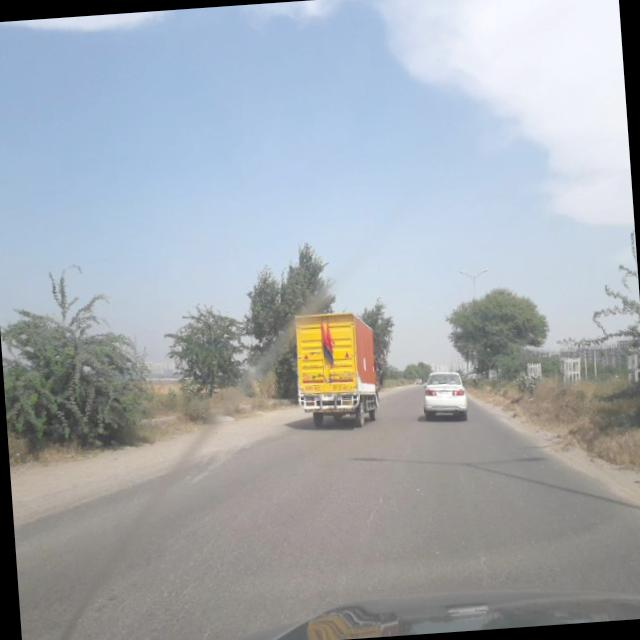crack: (38, 488, 264, 640)
pothole: (352, 480, 394, 548)
